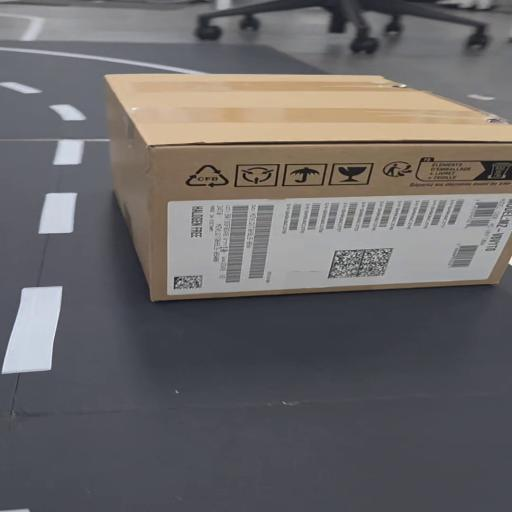Box: (95, 72, 512, 304)
